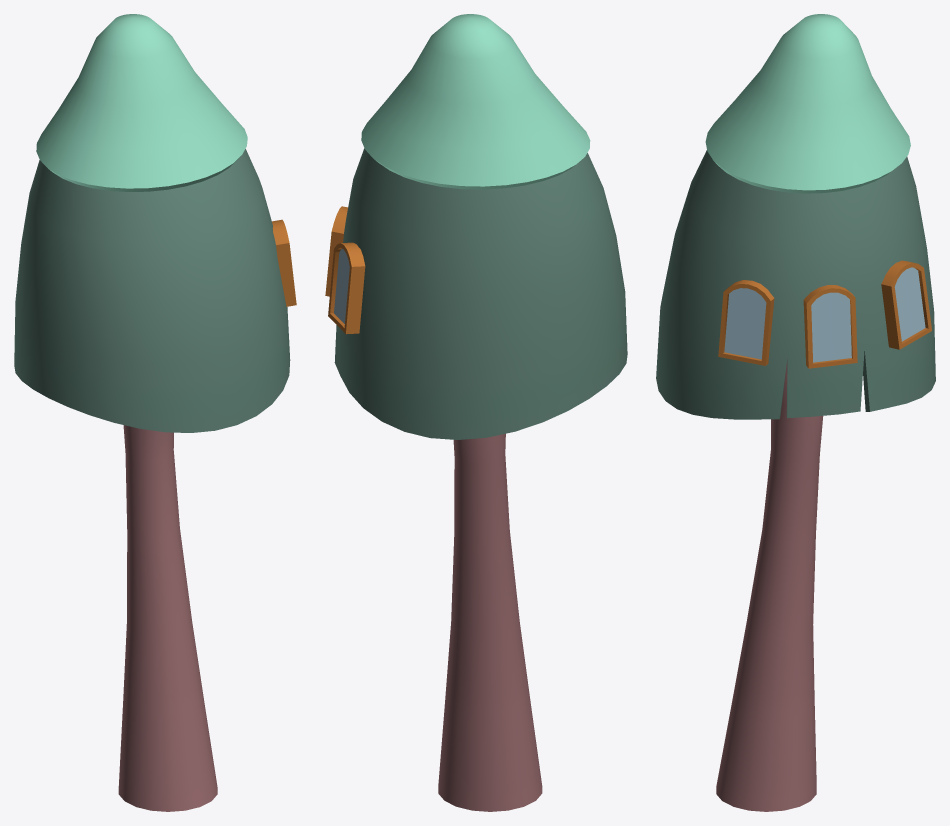
The model's file is moguwu_04.FBX.
3 views of the same model, side by side, from view 1: azimuth 30°, elevation 25°; view 2: azimuth 150°, elevation 25°; view 3: azimuth 270°, elevation 25° (orthographic). The views are drawn at different scales.
Visible parts, largest first — view 1: moguwu_04; view 2: moguwu_04; view 3: moguwu_04.
Boxes of the visible parts, x1,y1,x2,y2 form: moguwu_04: [14, 14, 296, 811]; moguwu_04: [325, 14, 627, 811]; moguwu_04: [656, 14, 935, 811].
Size of the model in its own units: 191 by 559 by 185.
